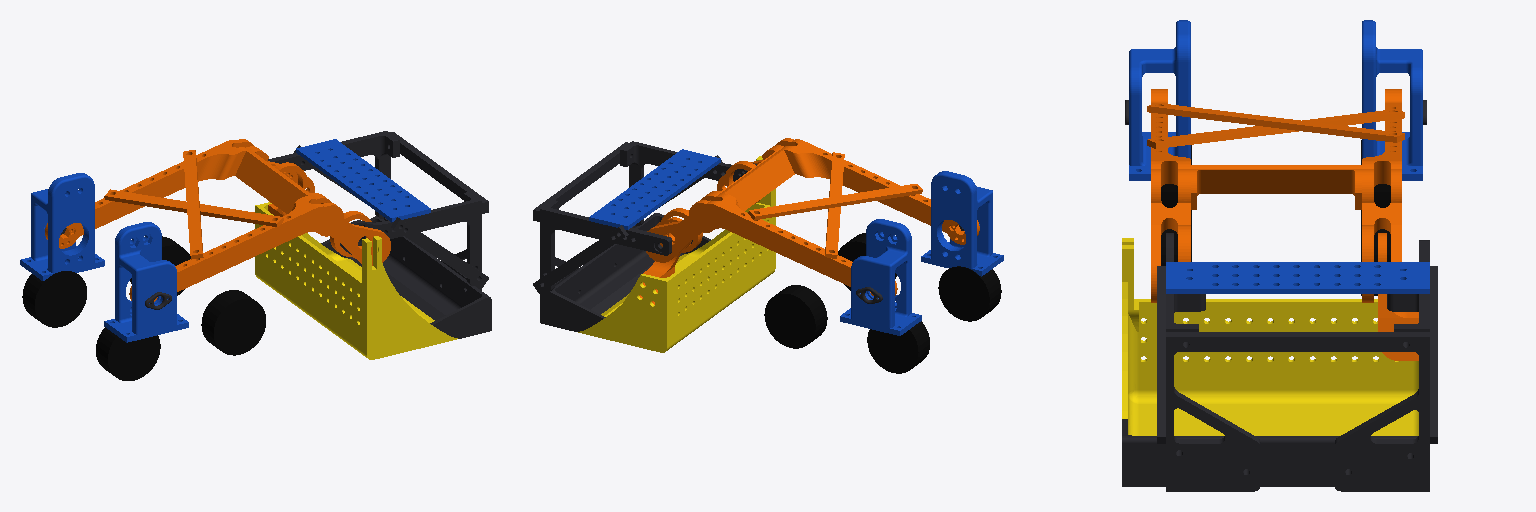
The robot description file, URDF, robot "bulldozer":
<?xml version="1.0"?>
<robot name="bulldozer">

  <!-- ==================================================== -->
  <!-- MATERIALS                                            -->
  <!-- ==================================================== -->
  <material name="chassis_blue">
    <color rgba="0.12 0.35 0.78 1.0"/>
  </material>
  <material name="arm_orange">
    <color rgba="0.95 0.45 0.05 1.0"/>
  </material>
  <material name="cup_yellow">
    <color rgba="0.95 0.85 0.10 1.0"/>
  </material>
  <material name="claw_dark">
    <color rgba="0.20 0.20 0.22 1.0"/>
  </material>
  <material name="tire_black">
    <color rgba="0.08 0.08 0.08 1.0"/>
  </material>

  <!-- ==================================================== -->
  <!-- BASE LINK & CHASSIS BODY                             -->
  <!-- ==================================================== -->
  <link name="base_link">
    <inertial>
      <mass value="0.75"/>
      <origin xyz="0 0 0" rpy="0 0 0"/>
      <inertia ixx="0.0020" ixy="0" ixz="0" iyy="0.0035" iyz="0" izz="0.0035"/>
    </inertial>

    <!-- Main Chassis Base -->
    <visual>
      <origin xyz="0 0 0" rpy="0 0 0"/>
      <geometry>
        <mesh filename="package://bulldozer/meshes/Part Studio 1 - 02_Chassis_Base.stl" scale="1 1 1"/>
      </geometry>
      <material name="chassis_blue"/>
    </visual>

    <!-- Left Arm Base Mount -->
    <visual>
      <origin xyz="0 0 0" rpy="0 0 0"/>
      <geometry>
        <mesh filename="package://bulldozer/meshes/Part Studio 1 - 03_Arm_Base_Mount_Left.stl" scale="1 1 1"/>
      </geometry>
      <material name="chassis_blue"/>
    </visual>

    <!-- Right Arm Base Mount -->
    <visual>
      <origin xyz="0 0 0" rpy="0 0 0"/>
      <geometry>
        <mesh filename="package://bulldozer/meshes/Part Studio 1 - 04_Arm_Base_Mount_Right.stl" scale="1 1 1"/>
      </geometry>
      <material name="chassis_blue"/>
    </visual>

    <!-- Bearing Flanges -->
    <visual>
      <origin xyz="0 0 0" rpy="0 0 0"/>
      <geometry>
        <mesh filename="package://bulldozer/meshes/Part Studio 1 - 06_Bearing_Flange_1.stl" scale="1 1 1"/>
      </geometry>
      <material name="claw_dark"/>
    </visual>
    <visual>
      <origin xyz="0 0 0" rpy="0 0 0"/>
      <geometry>
        <mesh filename="package://bulldozer/meshes/Part Studio 1 - 06_Bearing_Flange_2.stl" scale="1 1 1"/>
      </geometry>
      <material name="claw_dark"/>
    </visual>

    <!-- Camera Bracket -->
    <visual>
      <origin xyz="0 0 0" rpy="0 0 0"/>
      <geometry>
        <mesh filename="package://bulldozer/meshes/Part Studio 1 - 15_Cam_Holder.stl" scale="1 1 1"/>
      </geometry>
      <material name="chassis_blue"/>
    </visual>

    <collision>
      <origin xyz="0 0 0" rpy="0 0 0"/>
      <geometry>
        <box size="0.14 0.10 0.04"/>
      </geometry>
    </collision>
  </link>

  <!-- ==================================================== -->
  <!-- DUAL SYNCHRONIZED ARM ASSEMBLY                       -->
  <!-- ==================================================== -->
  <link name="arm_link">
    <inertial>
      <mass value="0.25"/>
      <origin xyz="0 0 0" rpy="0 0 0"/>
      <inertia ixx="0.0005" ixy="0" ixz="0" iyy="0.0005" iyz="0" izz="0.0005"/>
    </inertial>

    <!-- Left Arm Structural Beam -->
    <visual>
      <origin xyz="0 0 0" rpy="0 0 0"/>
      <geometry>
        <mesh filename="package://bulldozer/meshes/Part Studio 1 - 05_Lift_Left_Arm.stl" scale="1 1 1"/>
      </geometry>
      <material name="arm_orange"/>
    </visual>

    <!-- Right Arm Structural Beam -->
    <visual>
      <origin xyz="0 0 0" rpy="0 0 0"/>
      <geometry>
        <mesh filename="package://bulldozer/meshes/Part Studio 1 - 10_Right_Arm.stl" scale="1 1 1"/>
      </geometry>
      <material name="arm_orange"/>
    </visual>

    <!-- Crossbeam Supports -->
    <visual>
      <origin xyz="0 0 0" rpy="0 0 0"/>
      <geometry>
        <mesh filename="package://bulldozer/meshes/Part Studio 1 - 10_Arms_Support_Beam_1.stl" scale="1 1 1"/>
      </geometry>
      <material name="arm_orange"/>
    </visual>
    <visual>
      <origin xyz="0 0 0" rpy="0 0 0"/>
      <geometry>
        <mesh filename="package://bulldozer/meshes/Part Studio 1 - 11_Arms_Support_Beam_2.stl" scale="1 1 1"/>
      </geometry>
      <material name="arm_orange"/>
    </visual>
    <visual>
      <origin xyz="0 0 0" rpy="0 0 0"/>
      <geometry>
        <mesh filename="package://bulldozer/meshes/Part Studio 1 - 18_Arms_Vertical_Support.stl" scale="1 1 1"/>
      </geometry>
      <material name="arm_orange"/>
    </visual>

    <!-- Nut Flanges -->
    <visual>
      <origin xyz="0 0 0" rpy="0 0 0"/>
      <geometry>
        <mesh filename="package://bulldozer/meshes/Part Studio 1 - 07_Left_Arm_Nut_Flange.stl" scale="1 1 1"/>
      </geometry>
      <material name="claw_dark"/>
    </visual>
    <visual>
      <origin xyz="0 0 0" rpy="0 0 0"/>
      <geometry>
        <mesh filename="package://bulldozer/meshes/Part Studio 1 - 12_Right_Arm_Nut_Flange.stl" scale="1 1 1"/>
      </geometry>
      <material name="claw_dark"/>
    </visual>

    <collision>
      <origin xyz="0 0 0" rpy="0 0 0"/>
      <geometry>
        <box size="0.10 0.12 0.04"/>
      </geometry>
    </collision>
  </link>

  <joint name="arm_joint" type="revolute">
    <parent link="base_link"/>
    <child link="arm_link"/>
    <origin xyz="0 0 0" rpy="0 0 0"/>
    <axis xyz="0 1 0"/>
    <limit lower="-0.80" upper="0.80" effort="3.0" velocity="2.0"/>
  </joint>

  <!-- ==================================================== -->
  <!-- CUP TILT MECHANISM                                   -->
  <!-- ==================================================== -->
  <link name="cup_link">
    <inertial>
      <mass value="0.12"/>
      <origin xyz="0 0 0" rpy="0 0 0"/>
      <inertia ixx="0.0001" ixy="0" ixz="0" iyy="0.0001" iyz="0" izz="0.0001"/>
    </inertial>

    <!-- Cup Scoop -->
    <visual>
      <origin xyz="0 0 0" rpy="0 0 0"/>
      <geometry>
        <mesh filename="package://bulldozer/meshes/Part Studio 1 - 08_Cup.stl" scale="1 1 1"/>
      </geometry>
      <material name="cup_yellow"/>
    </visual>

    <!-- Arm Connector -->
    <visual>
      <origin xyz="0 0 0" rpy="0 0 0"/>
      <geometry>
        <mesh filename="package://bulldozer/meshes/Part Studio 1 - 09_Cup_Arm_Connector.stl" scale="1 1 1"/>
      </geometry>
      <material name="arm_orange"/>
    </visual>

    <collision>
      <origin xyz="0 0 0" rpy="0 0 0"/>
      <geometry>
        <box size="0.06 0.10 0.04"/>
      </geometry>
    </collision>
  </link>

  <joint name="cup_joint" type="revolute">
    <parent link="arm_link"/>
    <child link="cup_link"/>
    <origin xyz="0 0 0" rpy="0 0 0"/>
    <axis xyz="0 1 0"/>
    <limit lower="-1.22" upper="1.22" effort="2.0" velocity="2.0"/>
  </joint>

  <!-- ==================================================== -->
  <!-- CLAW GRIPPER ASSEMBLY                                -->
  <!-- ==================================================== -->
  <link name="claw_link">
    <inertial>
      <mass value="0.10"/>
      <origin xyz="0 0 0" rpy="0 0 0"/>
      <inertia ixx="0.0001" ixy="0" ixz="0" iyy="0.0001" iyz="0" izz="0.0001"/>
    </inertial>

    <!-- Beams & Brackets -->
    <visual>
      <origin xyz="0 0 0" rpy="0 0 0"/>
      <geometry>
        <mesh filename="package://bulldozer/meshes/Part Studio 1 - 13_Right_Claw_Beam.stl" scale="1 1 1"/>
      </geometry>
      <material name="claw_dark"/>
    </visual>
    <visual>
      <origin xyz="0 0 0" rpy="0 0 0"/>
      <geometry>
        <mesh filename="package://bulldozer/meshes/Part Studio 1 - 14_Left_Claw_Beam.stl" scale="1 1 1"/>
      </geometry>
      <material name="claw_dark"/>
    </visual>
    <visual>
      <origin xyz="0 0 0" rpy="0 0 0"/>
      <geometry>
        <mesh filename="package://bulldozer/meshes/Part Studio 1 - 16_Right_Claw_Beam.stl" scale="1 1 1"/>
      </geometry>
      <material name="claw_dark"/>
    </visual>
    <visual>
      <origin xyz="0 0 0" rpy="0 0 0"/>
      <geometry>
        <mesh filename="package://bulldozer/meshes/Part Studio 1 - 17_Left_Claw_Beam.stl" scale="1 1 1"/>
      </geometry>
      <material name="claw_dark"/>
    </visual>
    <visual>
      <origin xyz="0 0 0" rpy="0 0 0"/>
      <geometry>
        <mesh filename="package://bulldozer/meshes/Part Studio 1 - 19_Claw_Front_Beam.stl" scale="1 1 1"/>
      </geometry>
      <material name="claw_dark"/>
    </visual>

    <!-- Jaws / Gripper Body -->
    <visual>
      <origin xyz="0 0 0" rpy="0 0 0"/>
      <geometry>
        <mesh filename="package://bulldozer/meshes/Part Studio 1 - 15_Claw_Grabber.stl" scale="1 1 1"/>
      </geometry>
      <material name="claw_dark"/>
    </visual>

    <collision>
      <origin xyz="0 0 0" rpy="0 0 0"/>
      <geometry>
        <box size="0.05 0.08 0.03"/>
      </geometry>
    </collision>
  </link>

  <joint name="claw_joint" type="revolute">
    <parent link="cup_link"/>
    <child link="claw_link"/>
    <origin xyz="0 0 0" rpy="0 0 0"/>
    <axis xyz="0 0 1"/>
    <limit lower="-1.22" upper="1.22" effort="2.0" velocity="2.0"/>
  </joint>

  <!-- ==================================================== -->
  <!-- WHEELS & TRACK DRIVE (Properly Sized for Chassis)    -->
  <!-- ==================================================== -->
  <!-- 1. Front Left Wheel -->
  <link name="front_left_wheel">
    <inertial>
      <mass value="0.03"/>
      <origin xyz="0 0 0" rpy="1.5708 0 0"/>
      <inertia ixx="0.00002" ixy="0" ixz="0" iyy="0.00002" iyz="0" izz="0.00002"/>
    </inertial>
    <visual>
      <origin xyz="0 0 0" rpy="1.5708 0 0"/>
      <geometry><cylinder radius="0.020" length="0.016"/></geometry>
      <material name="tire_black"/>
    </visual>
    <collision>
      <origin xyz="0 0 0" rpy="1.5708 0 0"/>
      <geometry><cylinder radius="0.020" length="0.016"/></geometry>
    </collision>
  </link>
  <joint name="front_left_joint" type="continuous">
    <parent link="base_link"/>
    <child link="front_left_wheel"/>
    <origin xyz="0.040 0.048 -0.012" rpy="0 0 0"/>
    <axis xyz="0 1 0"/>
  </joint>

  <!-- 2. Rear Left Wheel -->
  <link name="rear_left_wheel">
    <inertial>
      <mass value="0.03"/>
      <origin xyz="0 0 0" rpy="1.5708 0 0"/>
      <inertia ixx="0.00002" ixy="0" ixz="0" iyy="0.00002" iyz="0" izz="0.00002"/>
    </inertial>
    <visual>
      <origin xyz="0 0 0" rpy="1.5708 0 0"/>
      <geometry><cylinder radius="0.020" length="0.016"/></geometry>
      <material name="tire_black"/>
    </visual>
    <collision>
      <origin xyz="0 0 0" rpy="1.5708 0 0"/>
      <geometry><cylinder radius="0.020" length="0.016"/></geometry>
    </collision>
  </link>
  <joint name="rear_left_joint" type="continuous">
    <parent link="base_link"/>
    <child link="rear_left_wheel"/>
    <origin xyz="-0.040 0.048 -0.012" rpy="0 0 0"/>
    <axis xyz="0 1 0"/>
  </joint>

  <!-- 3. Front Right Wheel -->
  <link name="front_right_wheel">
    <inertial>
      <mass value="0.03"/>
      <origin xyz="0 0 0" rpy="1.5708 0 0"/>
      <inertia ixx="0.00002" ixy="0" ixz="0" iyy="0.00002" iyz="0" izz="0.00002"/>
    </inertial>
    <visual>
      <origin xyz="0 0 0" rpy="1.5708 0 0"/>
      <geometry><cylinder radius="0.020" length="0.016"/></geometry>
      <material name="tire_black"/>
    </visual>
    <collision>
      <origin xyz="0 0 0" rpy="1.5708 0 0"/>
      <geometry><cylinder radius="0.020" length="0.016"/></geometry>
    </collision>
  </link>
  <joint name="front_right_joint" type="continuous">
    <parent link="base_link"/>
    <child link="front_right_wheel"/>
    <origin xyz="0.040 -0.048 -0.012" rpy="0 0 0"/>
    <axis xyz="0 1 0"/>
  </joint>

  <!-- 4. Rear Right Wheel -->
  <link name="rear_right_wheel">
    <inertial>
      <mass value="0.03"/>
      <origin xyz="0 0 0" rpy="1.5708 0 0"/>
      <inertia ixx="0.00002" ixy="0" ixz="0" iyy="0.00002" iyz="0" izz="0.00002"/>
    </inertial>
    <visual>
      <origin xyz="0 0 0" rpy="1.5708 0 0"/>
      <geometry><cylinder radius="0.020" length="0.016"/></geometry>
      <material name="tire_black"/>
    </visual>
    <collision>
      <origin xyz="0 0 0" rpy="1.5708 0 0"/>
      <geometry><cylinder radius="0.020" length="0.016"/></geometry>
    </collision>
  </link>
  <joint name="rear_right_joint" type="continuous">
    <parent link="base_link"/>
    <child link="rear_right_wheel"/>
    <origin xyz="-0.040 -0.048 -0.012" rpy="0 0 0"/>
    <axis xyz="0 1 0"/>
  </joint>

  <!-- ==================================================== -->
  <!-- GAZEBO PHYSICS & DIFF DRIVE                          -->
  <!-- ==================================================== -->
  <gazebo reference="front_left_wheel"><mu1>2.0</mu1><mu2>2.0</mu2></gazebo>
  <gazebo reference="rear_left_wheel"><mu1>2.0</mu1><mu2>2.0</mu2></gazebo>
  <gazebo reference="front_right_wheel"><mu1>2.0</mu1><mu2>2.0</mu2></gazebo>
  <gazebo reference="rear_right_wheel"><mu1>2.0</mu1><mu2>2.0</mu2></gazebo>

  <gazebo>
    <plugin filename="gz-sim-diff-drive-system" name="gz::sim::systems::DiffDrive">
      <left_joint>front_left_joint</left_joint>
      <left_joint>rear_left_joint</left_joint>
      <right_joint>front_right_joint</right_joint>
      <right_joint>rear_right_joint</right_joint>
      <wheel_separation>0.096</wheel_separation>
      <wheel_radius>0.020</wheel_radius>
      <topic>/cmd_vel</topic>
      <odom_topic>/odom</odom_topic>
      <tf_topic>/tf</tf_topic>
      <frame_id>odom</frame_id>
      <child_frame_id>base_link</child_frame_id>
      <odom_publish_frequency>50</odom_publish_frequency>
    </plugin>

    <plugin filename="gz-sim-joint-state-publisher-system" name="gz::sim::systems::JointStatePublisher">
      <topic>/joint_states</topic>
      <joint_name>front_left_joint</joint_name>
      <joint_name>rear_left_joint</joint_name>
      <joint_name>front_right_joint</joint_name>
      <joint_name>rear_right_joint</joint_name>
      <joint_name>arm_joint</joint_name>
      <joint_name>cup_joint</joint_name>
      <joint_name>claw_joint</joint_name>
    </plugin>
  </gazebo>

  <!-- IMU Sensor -->
  <gazebo reference="base_link">
    <sensor name="imu_sensor" type="imu">
      <always_on>1</always_on>
      <update_rate>50</update_rate>
      <visualize>true</visualize>
      <topic>/imu</topic>
    </sensor>
  </gazebo>

</robot>

--- Facts derived from the render (not from the file) ---
The picture shows the robot from 3 angles, left to right: view 1: azimuth 30°, elevation 25°; view 2: azimuth 150°, elevation 25°; view 3: azimuth 270°, elevation 25°; orthographic projection.
Robot: bulldozer — 8 links, 7 joints (3 revolute, 4 continuous); root link base_link; default pose: every joint at zero.
Links seen in each view (by area): view 1: base_link, arm_link, claw_link, cup_link, front_right_wheel, rear_left_wheel, rear_right_wheel, front_left_wheel; view 2: base_link, arm_link, claw_link, cup_link, front_left_wheel, rear_right_wheel, rear_left_wheel, front_right_wheel; view 3: claw_link, cup_link, arm_link, base_link.
Boxes of the visible links, <box> form: base_link: <box>20,139,430,342</box>; arm_link: <box>45,139,390,301</box>; claw_link: <box>268,131,491,338</box>; cup_link: <box>255,165,457,359</box>; front_right_wheel: <box>201,290,265,355</box>; rear_left_wheel: <box>22,271,86,327</box>; rear_right_wheel: <box>96,327,160,380</box>; front_left_wheel: <box>130,236,190,295</box>; base_link: <box>589,149,1003,335</box>; arm_link: <box>646,138,979,295</box>; claw_link: <box>533,141,756,331</box>; cup_link: <box>578,156,775,352</box>; front_left_wheel: <box>764,285,827,348</box>; rear_right_wheel: <box>938,266,1001,321</box>; rear_left_wheel: <box>867,321,929,373</box>; front_right_wheel: <box>838,233,896,290</box>; claw_link: <box>1122,233,1437,491</box>; cup_link: <box>1122,233,1418,435</box>; arm_link: <box>1147,89,1404,302</box>; base_link: <box>1125,20,1429,293</box>.
Bounding box of the posed robot: 0.2904 × 0.1498 × 0.123 m (x, y, z).
Meshes: 21 distinct files referenced, 20 mesh visuals loaded (20 binary STL); not drawn: 1 (reference not matched to a file when rendering).
